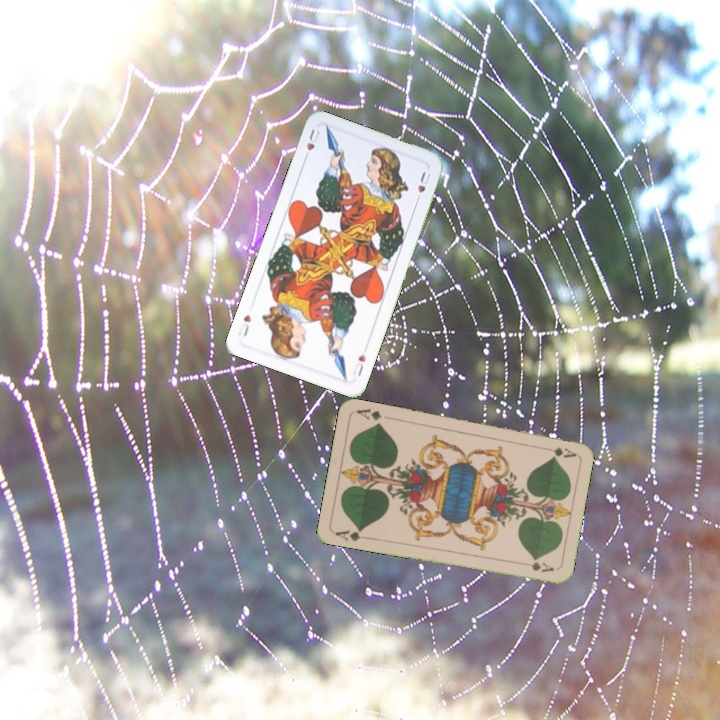GA: (331, 525, 372, 544), (538, 443, 578, 460)
HU: (300, 125, 322, 163), (348, 350, 368, 379)
